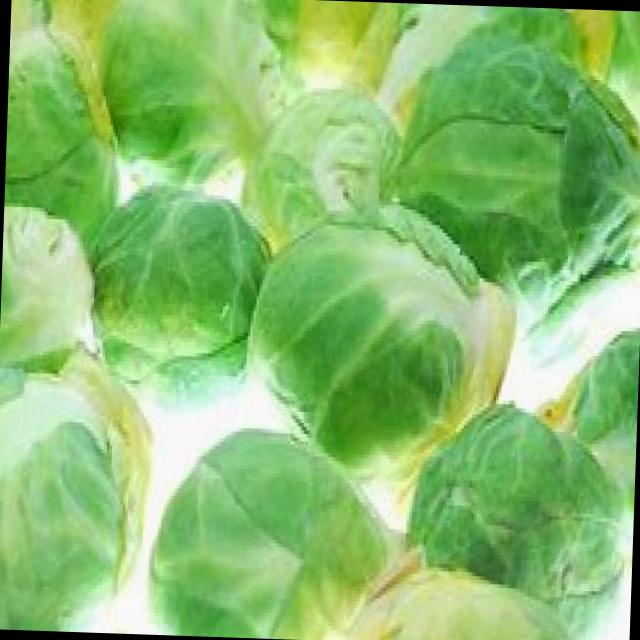cabbage: (252, 206, 516, 477), (135, 423, 385, 640), (400, 406, 632, 639), (84, 181, 278, 391), (87, 0, 283, 182), (244, 76, 396, 246)
